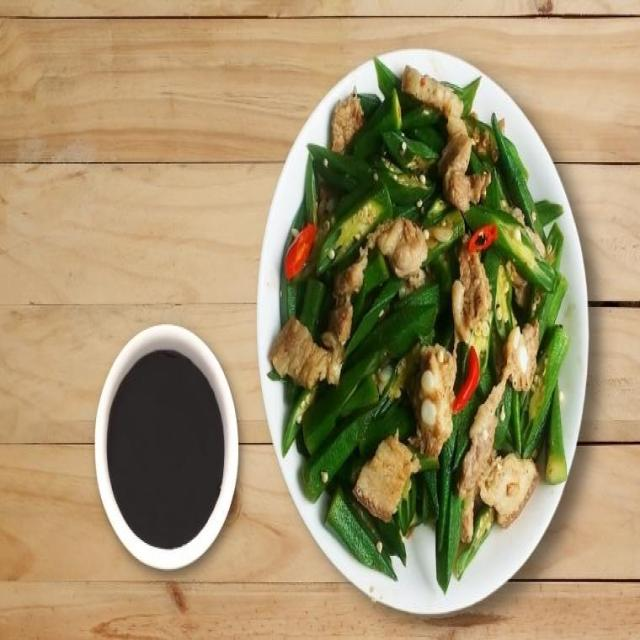dau bap: (270, 61, 568, 589)
nuoc tuong: (107, 352, 224, 548)
